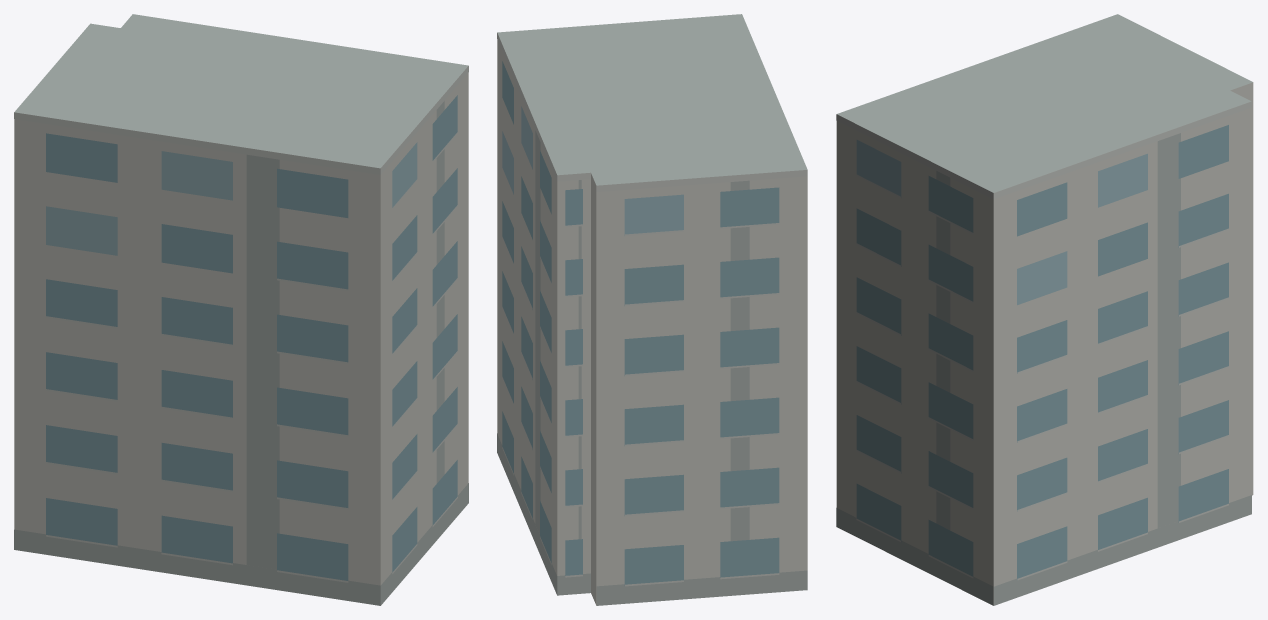
Rendered from residential-c8d03215-81f0-4ec3-8335-82e543652b11.glb.
3 renders of one model, left to right at view 1: azimuth 30°, elevation 25°; view 2: azimuth 150°, elevation 25°; view 3: azimuth 270°, elevation 25°, orthographic. The views are drawn at different scales.
Visible parts, largest first — view 1: residential-c8d03215-81f0-4ec3-8335-82e543652b11.tmp; view 2: residential-c8d03215-81f0-4ec3-8335-82e543652b11.tmp; view 3: residential-c8d03215-81f0-4ec3-8335-82e543652b11.tmp.
Part boxes in pixels (x1,y1,x2,y2): residential-c8d03215-81f0-4ec3-8335-82e543652b11.tmp: (14,14,468,605); residential-c8d03215-81f0-4ec3-8335-82e543652b11.tmp: (497,14,807,605); residential-c8d03215-81f0-4ec3-8335-82e543652b11.tmp: (836,14,1253,605).
Bounding box in the file's own units: 14.61 × 15.7 × 14.38.
